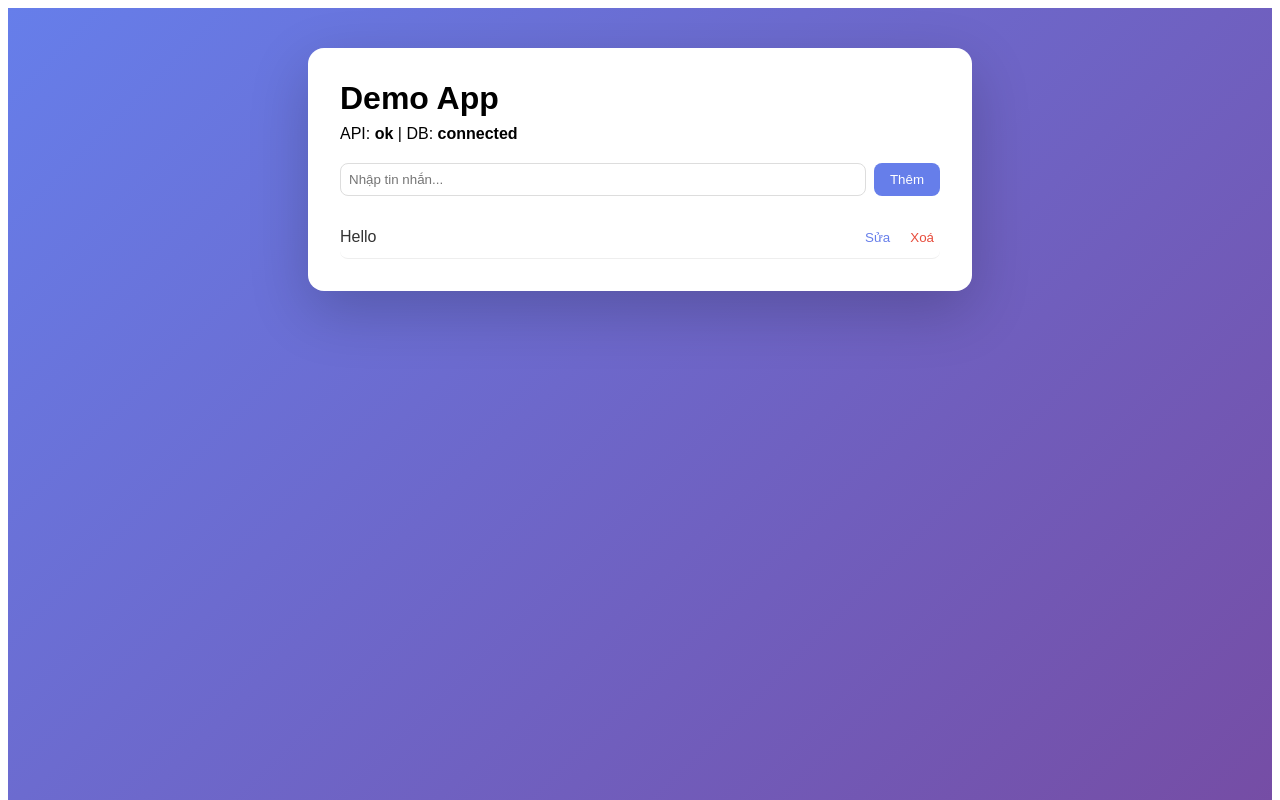
Test: App - sửa message › không hiển thị nút Sửa/Xoá khi đang ở chế độ chỉnh sửa
Expected: the text "Hello" is shown, [340,228,376,246]
Click the button "Sửa".
click(878, 237)  # box [859,228,896,246]
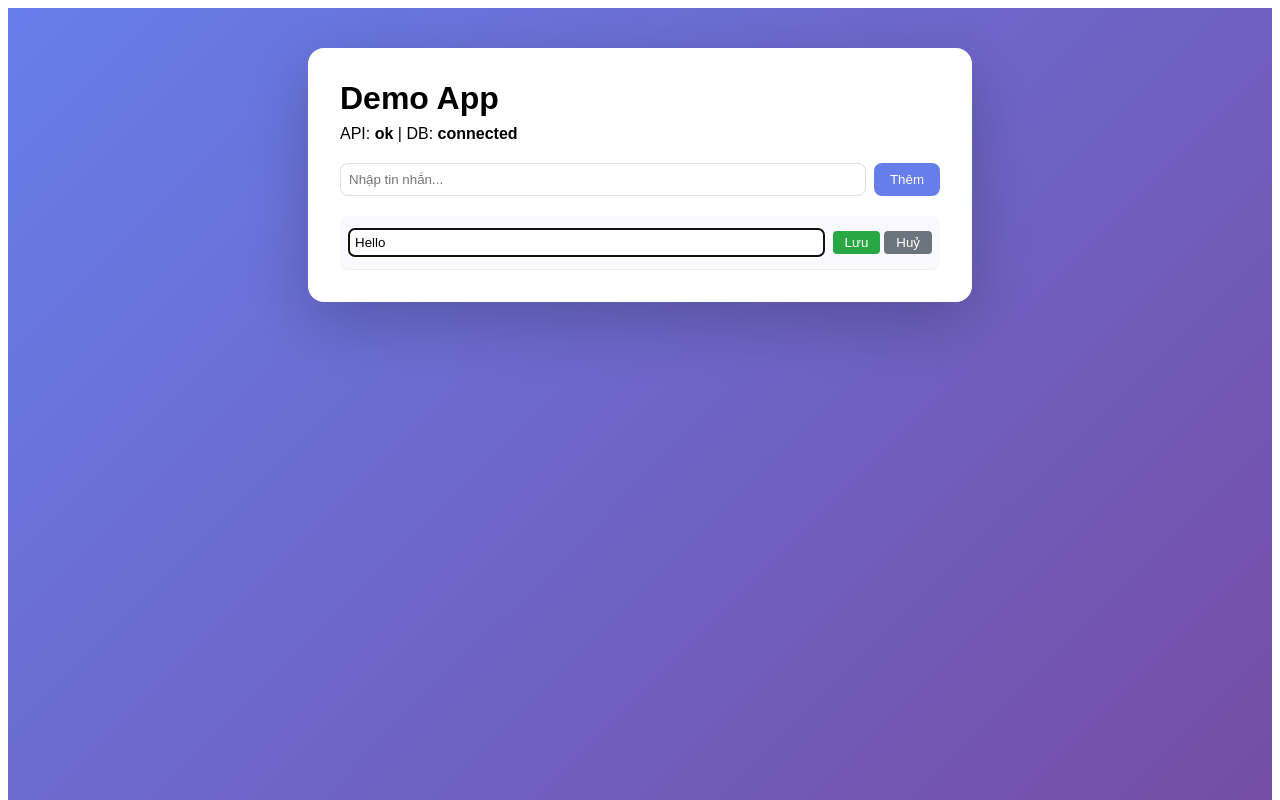
Expected: the button "Xoá" is gone
Expected: the button "Sửa" is gone
